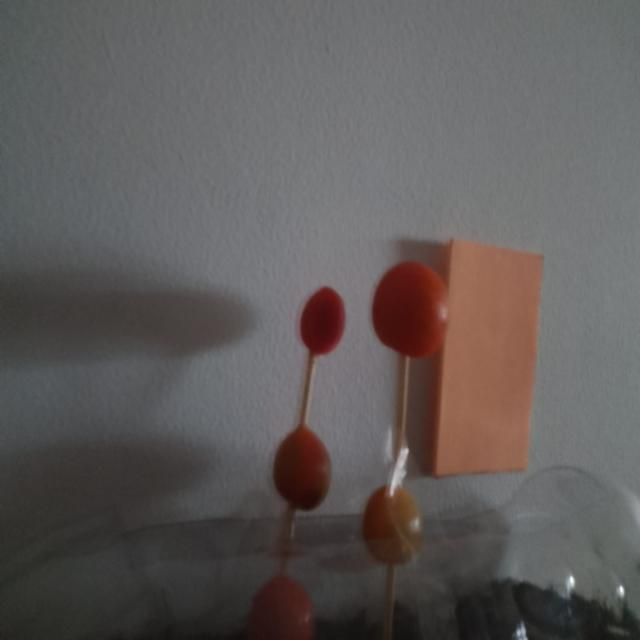card: (427, 239, 542, 476)
fruit_maturation: (362, 486, 422, 564)
fully_grown: (372, 261, 448, 358), (273, 424, 331, 510), (300, 287, 345, 355)
